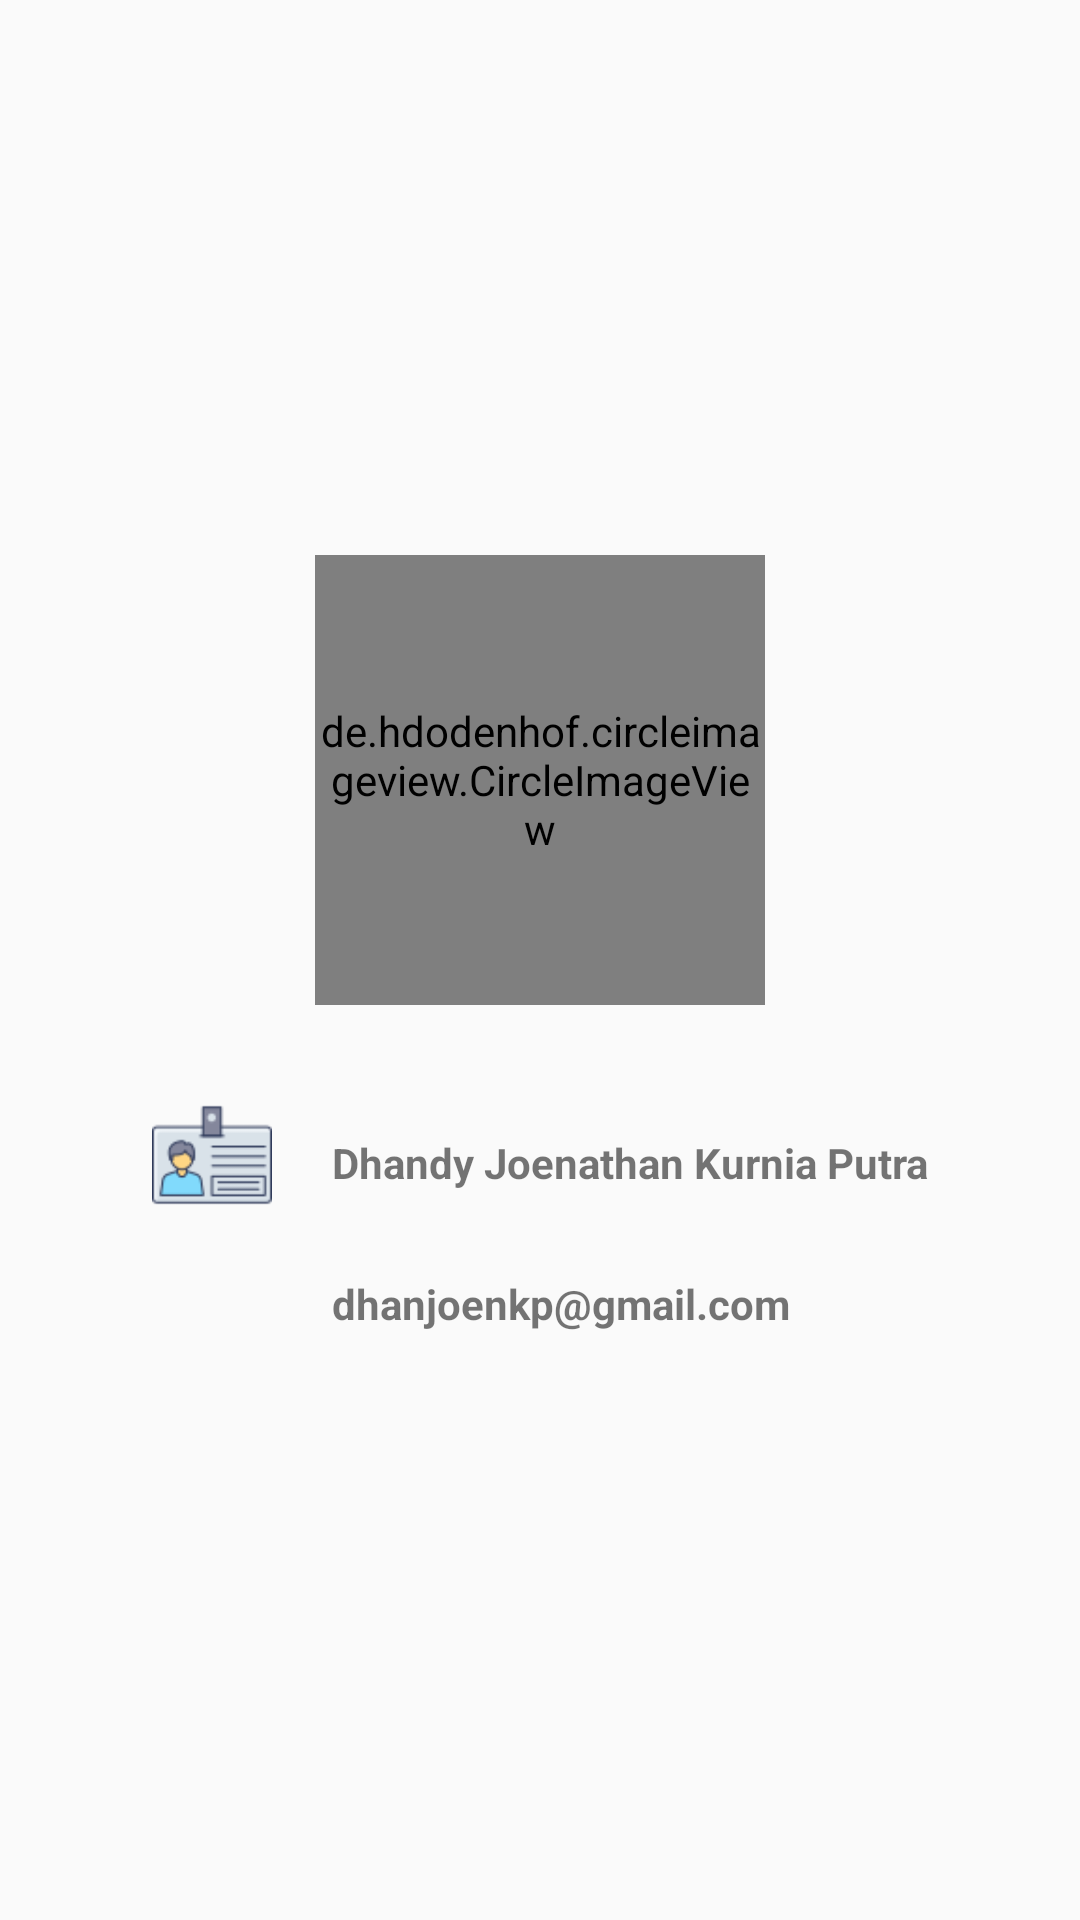

Point at icon controls on the screen. Image size 1080px x 1920px, points as (x,y).
username: (212,1155)
